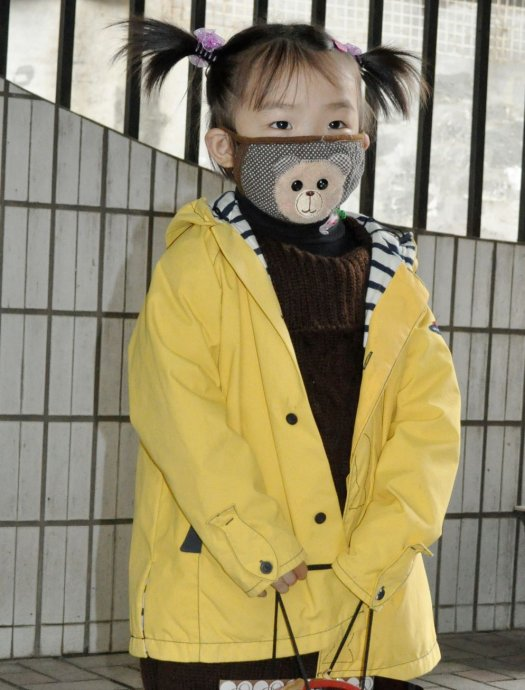face_mask: (235, 49, 357, 229)
